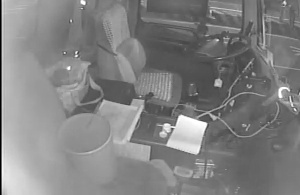paper: (165, 113, 209, 157)
